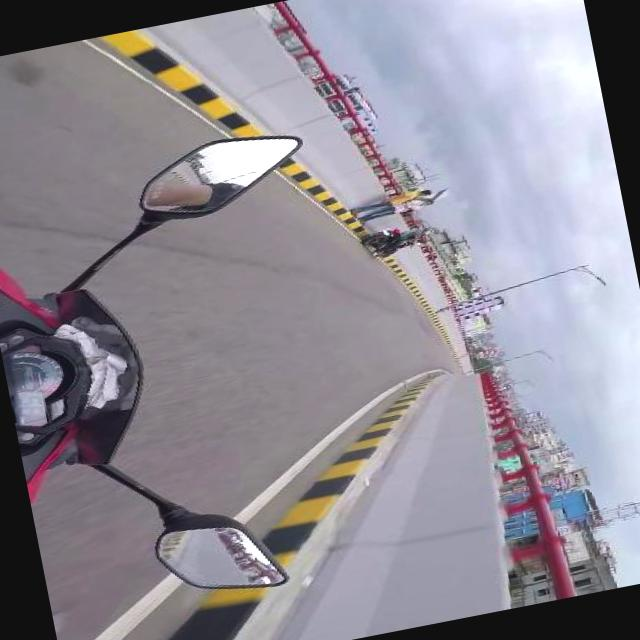motorcycle: (0, 123, 395, 626), (360, 218, 438, 262)
